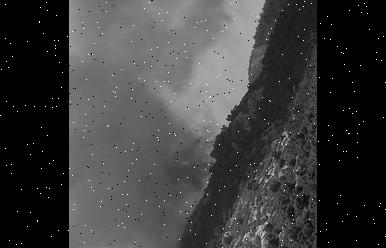fire: (181, 130, 230, 175)
